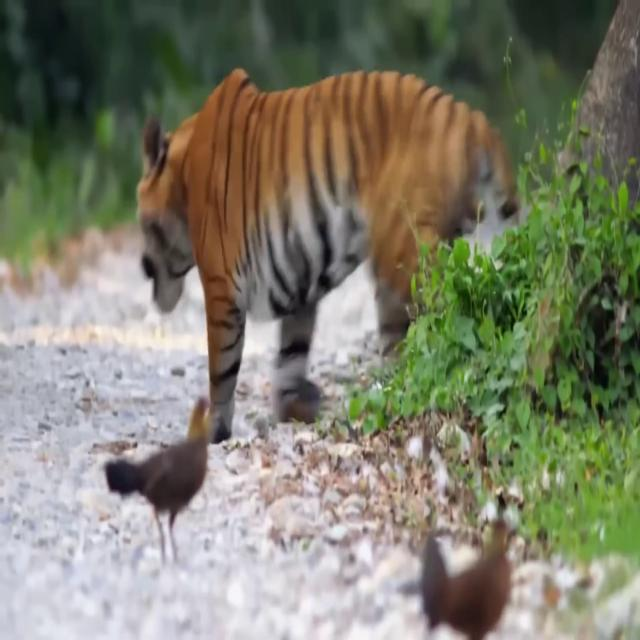tiger: (135, 64, 520, 443)
